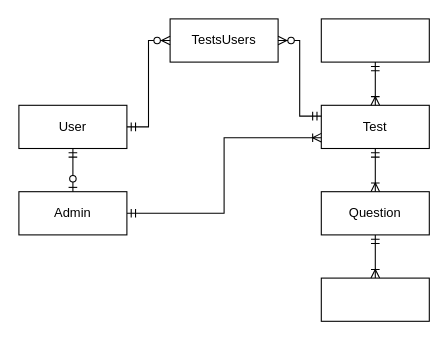
Some shapes in this 448 by 340 pixel diagram are drawn without their labels. Each missing label, with the centre of its shape:
"Answer" belongs at (374,299).
"Category" belongs at (374,40).
